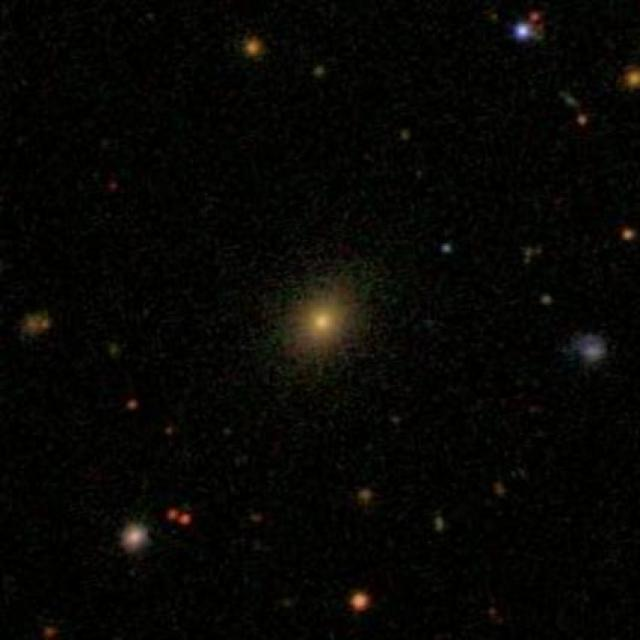galaxy: (258, 254, 394, 385), (561, 325, 614, 372), (233, 30, 280, 66), (117, 520, 158, 555), (19, 307, 55, 341), (512, 20, 550, 49), (552, 84, 582, 114), (518, 241, 549, 268), (624, 59, 640, 102), (354, 487, 379, 512), (349, 586, 372, 613), (104, 333, 124, 364), (617, 225, 640, 247), (395, 126, 416, 148), (308, 62, 329, 84), (122, 394, 142, 415), (38, 627, 69, 640), (102, 177, 121, 198), (526, 8, 545, 28), (178, 512, 200, 529), (161, 418, 177, 440), (490, 481, 507, 501), (576, 111, 593, 131), (248, 511, 268, 528), (539, 291, 556, 309), (441, 241, 457, 260), (430, 518, 448, 534), (487, 602, 500, 619), (165, 509, 181, 521)
